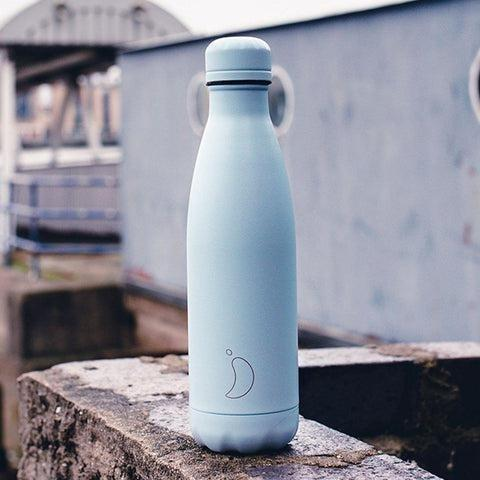gym bottle: (183, 34, 303, 457)
